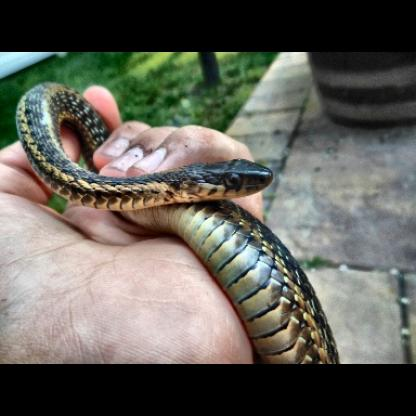Snake: (14, 81, 288, 222)
